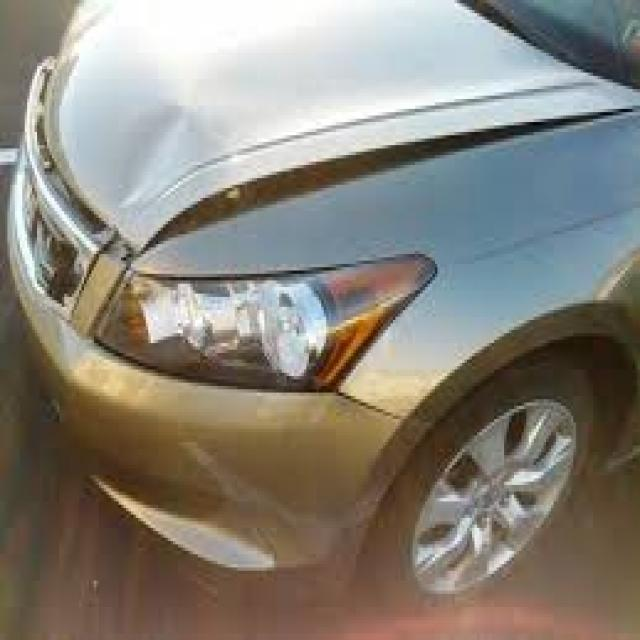minor: (130, 96, 590, 277)
